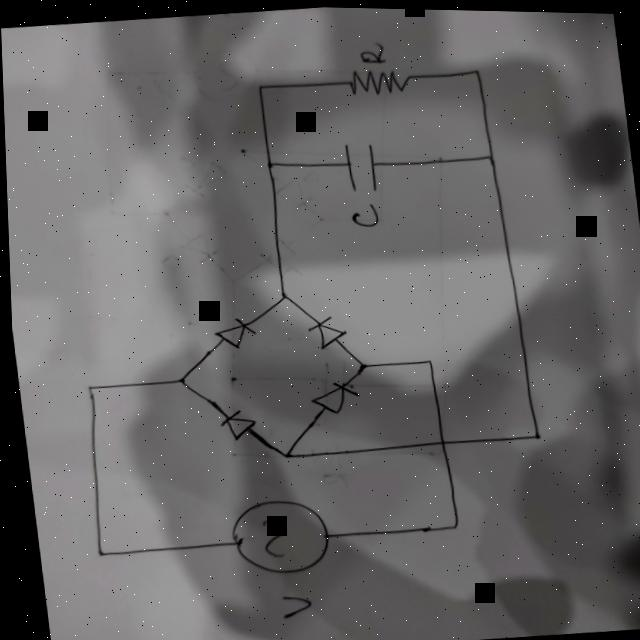capacitor: (338, 136, 379, 194)
crossover: (431, 435, 445, 445)
diode: (303, 377, 358, 416), (207, 314, 255, 351), (302, 312, 346, 349), (213, 406, 255, 442)
junction: (77, 381, 100, 397), (170, 371, 188, 387), (482, 147, 496, 163), (274, 446, 291, 459), (274, 289, 292, 301), (465, 63, 482, 75), (251, 80, 267, 92), (525, 427, 540, 439), (442, 518, 456, 530), (353, 358, 367, 370), (89, 546, 104, 557), (262, 158, 274, 168), (420, 355, 431, 364)
resistor: (340, 63, 412, 96)
source: (219, 490, 330, 579)
text: (272, 589, 309, 619), (345, 199, 378, 227), (355, 37, 388, 64)
